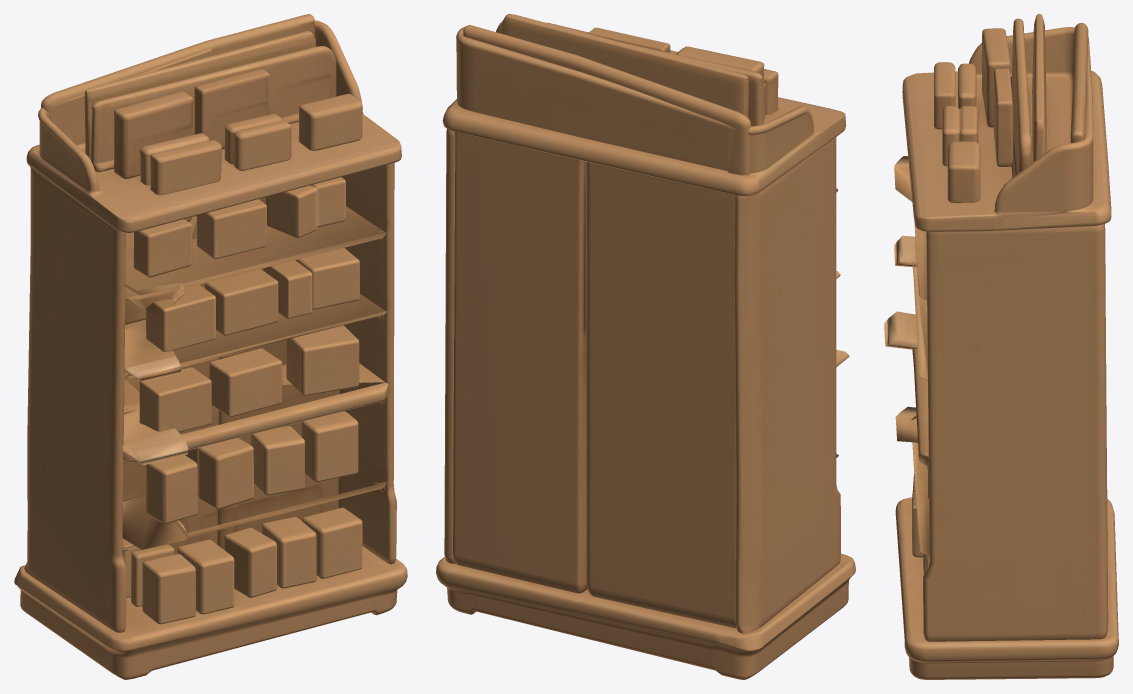
The model's file is toonstudio_pharmacy_shelf.glb.
3 views of the same model, side by side, from view 1: azimuth 30°, elevation 25°; view 2: azimuth 150°, elevation 25°; view 3: azimuth 270°, elevation 25° (orthographic). The views are drawn at different scales.
Parts seen in each view (by area): view 1: tripo_2d12beef_2b7e_4956_b320_f3d70d47295f; view 2: tripo_2d12beef_2b7e_4956_b320_f3d70d47295f; view 3: tripo_2d12beef_2b7e_4956_b320_f3d70d47295f.
Part boxes in pixels (box(x1,y1,x2,y2)): tripo_2d12beef_2b7e_4956_b320_f3d70d47295f: box(14, 14, 407, 679); tripo_2d12beef_2b7e_4956_b320_f3d70d47295f: box(436, 14, 855, 679); tripo_2d12beef_2b7e_4956_b320_f3d70d47295f: box(884, 14, 1118, 679).
Bounding box in the file's own units: 1.06 × 1.8 × 0.6973.
1 material, 1 textured.
